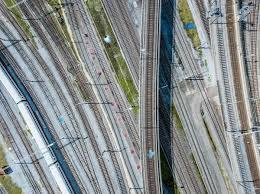Color_steel: (186, 21, 196, 31)
Plastic: (102, 32, 112, 44), (56, 115, 66, 126), (145, 149, 155, 160)
